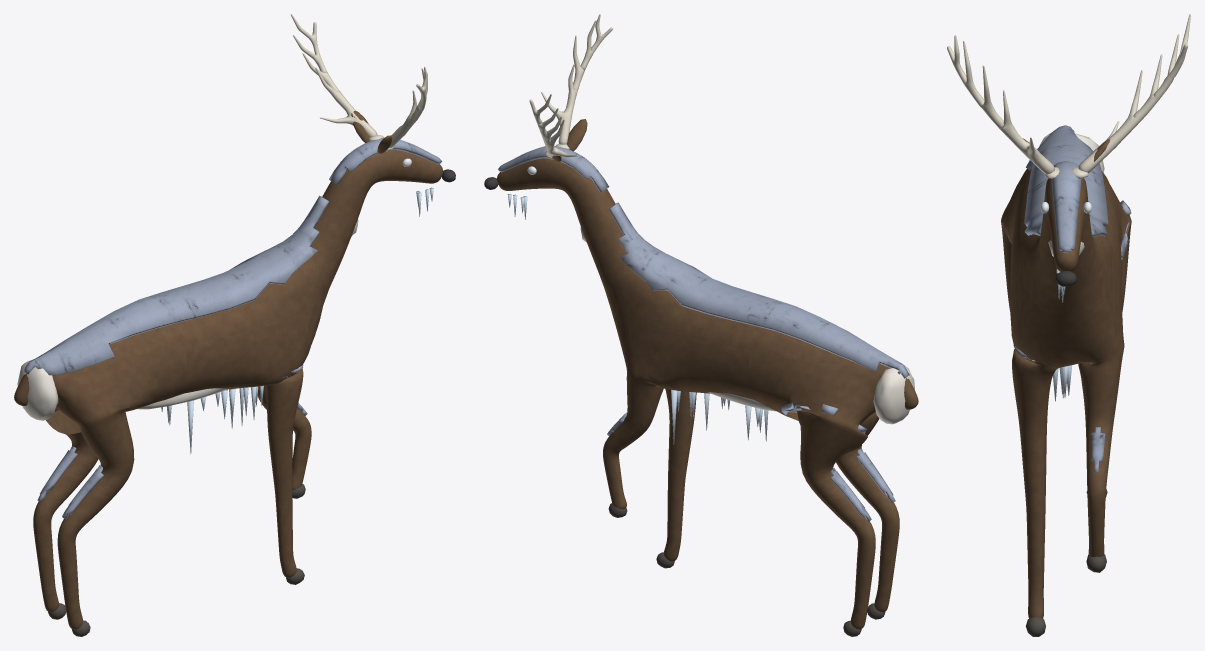
Rendered from frozen_deer.glb.
The picture shows the model from 3 angles, left to right: view 1: azimuth 30°, elevation 25°; view 2: azimuth 150°, elevation 25°; view 3: azimuth 270°, elevation 25°; orthographic projection. The views are drawn at different scales.
Parts seen in each view (by area): view 1: FrozenDeer; view 2: FrozenDeer; view 3: FrozenDeer.
Part boxes in pixels (x1,y1,x2,y2): FrozenDeer: (14, 14, 455, 636); FrozenDeer: (484, 14, 918, 636); FrozenDeer: (947, 14, 1190, 636).
Bounding box in the file's own units: 1.77 × 1.98 × 0.6619.
8 materials, 2 textured.
